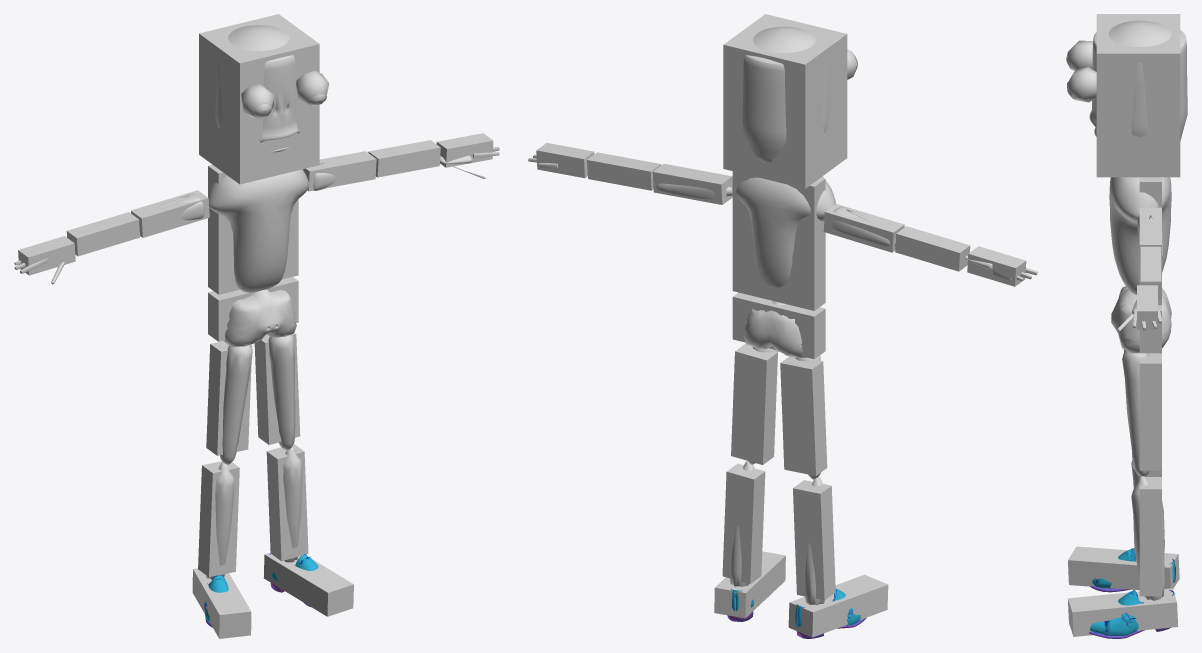
File: ROBOTLOPOLYCOL7.glb
The picture shows the model from 3 angles, left to right: view 1: azimuth 30°, elevation 25°; view 2: azimuth 150°, elevation 25°; view 3: azimuth 270°, elevation 25°; orthographic projection. The views are drawn at different scales.
Parts seen in each view (by area): view 1: RAGDOLL.HEAD, UPPERBODY, HEAD, RAGDOLL.SHOE.L, RAGDOLL.UPPERBODY, HIPS, RAGDOLL.LOWERLEG.R, RAGDOLL.LOWERLEG.L, RAGDOLL.SHOE.R, RAGDOLL.UPPERLEG.R, UPPERLEG.R, UPPERLEG.L (+12 smaller); view 2: RAGDOLL.HEAD, RAGDOLL.UPPERBODY, HEAD, UPPERBODY, RAGDOLL.UPPERLEG.R, RAGDOLL.UPPERLEG.L, RAGDOLL.LOWERLEG.R, RAGDOLL.LOWERLEG.L, RAGDOLL.SHOE.R, RAGDOLL.HIPS, RAGDOLL.SHOE.L, HIPS (+7 smaller); view 3: RAGDOLL.HEAD, UPPERBODY, HEAD, RAGDOLL.SHOE.L, RAGDOLL.SHOE.R, RAGDOLL.LOWERLEG.L, RAGDOLL.UPPERLEG.L, HIPS, UPPERLEG.L, SHOE.L, RAGDOLL.UPPERARM.L, RAGDOLL.LOWERARM.L (+8 smaller).
Boxes of the visible parts, bbox=[...] form: RAGDOLL.HEAD: bbox=[199, 14, 319, 184]; UPPERBODY: bbox=[208, 169, 309, 292]; HEAD: bbox=[215, 25, 300, 152]; RAGDOLL.SHOE.L: bbox=[263, 552, 353, 616]; RAGDOLL.UPPERBODY: bbox=[208, 164, 298, 294]; HIPS: bbox=[224, 289, 296, 347]; RAGDOLL.LOWERLEG.R: bbox=[198, 461, 239, 576]; RAGDOLL.LOWERLEG.L: bbox=[266, 444, 308, 561]; RAGDOLL.SHOE.R: bbox=[192, 568, 251, 638]; RAGDOLL.UPPERLEG.R: bbox=[206, 341, 252, 455]; UPPERLEG.R: bbox=[220, 345, 252, 465]; UPPERLEG.L: bbox=[268, 334, 295, 450]; RAGDOLL.HEAD: bbox=[723, 14, 847, 188]; RAGDOLL.UPPERBODY: bbox=[732, 171, 825, 310]; HEAD: bbox=[742, 26, 828, 163]; UPPERBODY: bbox=[732, 176, 835, 287]; RAGDOLL.UPPERLEG.R: bbox=[780, 356, 827, 475]; RAGDOLL.UPPERLEG.L: bbox=[731, 344, 777, 464]; RAGDOLL.LOWERLEG.R: bbox=[793, 480, 835, 600]; RAGDOLL.LOWERLEG.L: bbox=[722, 463, 765, 583]; RAGDOLL.SHOE.R: bbox=[788, 574, 888, 637]; RAGDOLL.HIPS: bbox=[732, 292, 825, 359]; RAGDOLL.SHOE.L: bbox=[714, 551, 785, 618]; HIPS: bbox=[744, 301, 806, 357]; RAGDOLL.HEAD: bbox=[1096, 14, 1180, 177]; UPPERBODY: bbox=[1109, 177, 1171, 295]; HEAD: bbox=[1089, 20, 1187, 140]; RAGDOLL.SHOE.L: bbox=[1068, 588, 1178, 636]; RAGDOLL.SHOE.R: bbox=[1068, 546, 1179, 590]; RAGDOLL.LOWERLEG.L: bbox=[1139, 477, 1161, 596]; RAGDOLL.UPPERLEG.L: bbox=[1139, 353, 1161, 470]; HIPS: bbox=[1111, 286, 1171, 353]; UPPERLEG.L: bbox=[1122, 351, 1149, 476]; SHOE.L: bbox=[1089, 590, 1174, 638]; RAGDOLL.UPPERARM.L: bbox=[1139, 207, 1161, 264]; RAGDOLL.LOWERARM.L: bbox=[1140, 246, 1161, 299].
Bounding box in the file's own units: 1.81 × 2.05 × 0.3849.
